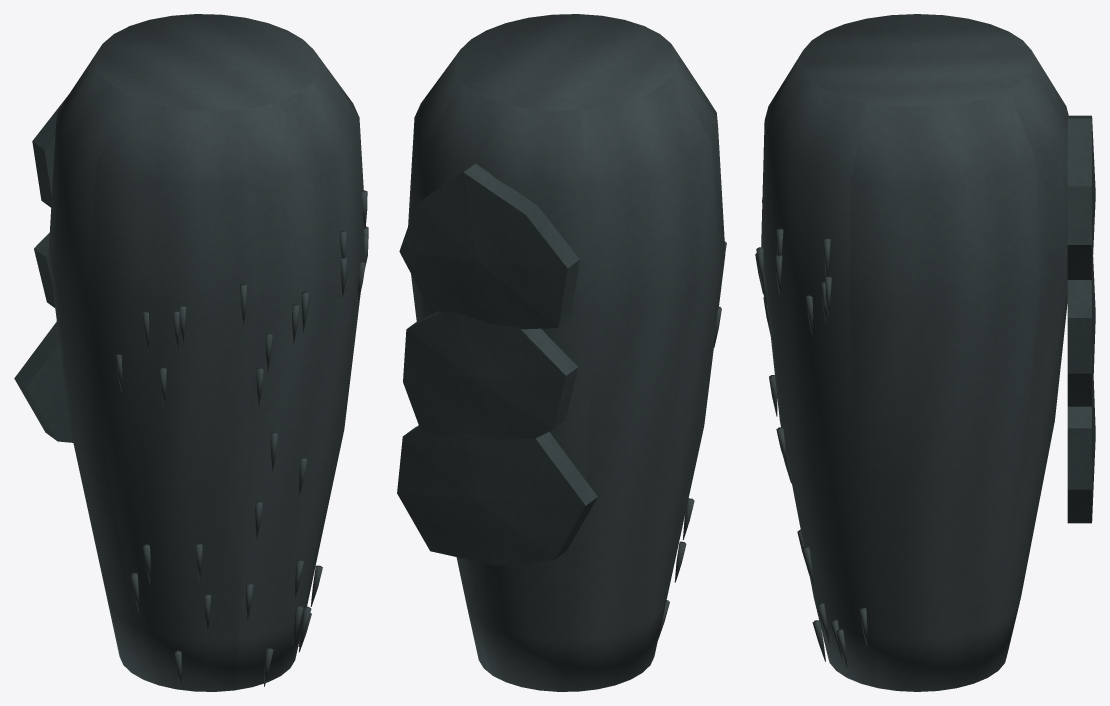
File: thigh_r_lod0.glb
3 renders of one model, left to right at view 1: azimuth 30°, elevation 25°; view 2: azimuth 150°, elevation 25°; view 3: azimuth 270°, elevation 25°, orthographic.
Visible parts, largest first — view 1: dormin_thigh_r_LOD0; view 2: dormin_thigh_r_LOD0; view 3: dormin_thigh_r_LOD0.
Boxes of the visible parts, x1,y1,x2,y2 form: dormin_thigh_r_LOD0: (14, 14, 368, 691); dormin_thigh_r_LOD0: (397, 14, 726, 691); dormin_thigh_r_LOD0: (755, 14, 1095, 691).
Bounding box in the file's own units: 1.9 × 3.87 × 2.01.
2 materials, 2 textured.
